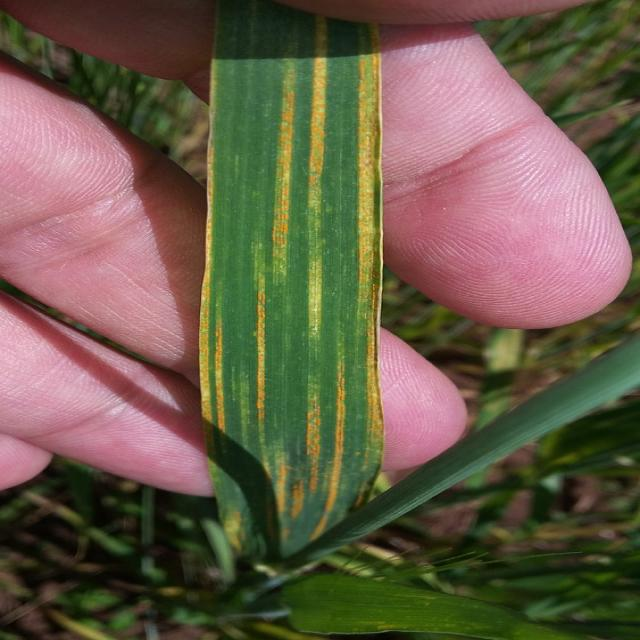wheat-yellowrust: (358, 26, 385, 454), (307, 16, 330, 351), (274, 48, 304, 289)
